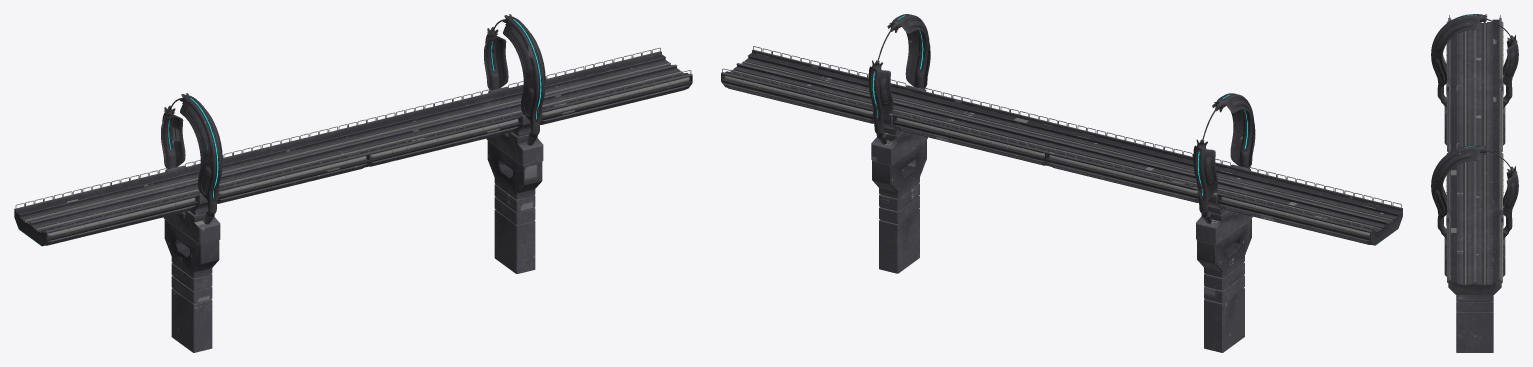
Rendered from bridge.glb.
3 renders of one model, left to right at view 1: azimuth 30°, elevation 25°; view 2: azimuth 150°, elevation 25°; view 3: azimuth 270°, elevation 25°, orthographic. The views are drawn at different scales.
Visible parts, largest first — view 1: bridge_ straight; view 2: bridge_ straight; view 3: bridge_ straight.
Boxes of the visible parts, bbox=[...] form: bridge_ straight: bbox=[14, 14, 692, 352]; bridge_ straight: bbox=[721, 14, 1402, 352]; bridge_ straight: bbox=[1431, 14, 1518, 352].
Bounding box in the file's own units: 91.17 × 32.9 × 12.88.
Materials: 1 (1 with a texture image).
